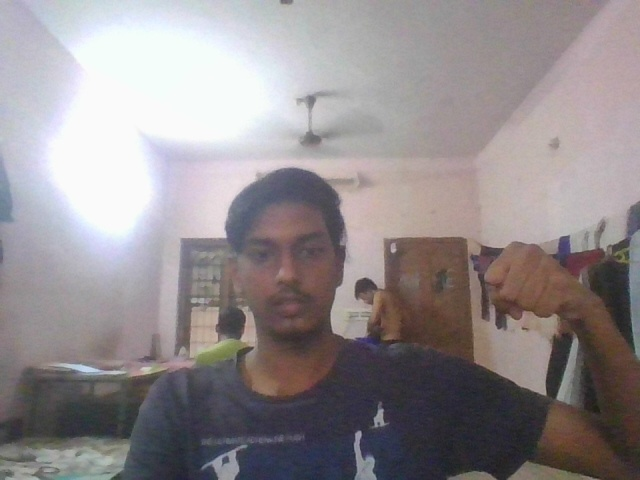yes: (479, 237, 588, 329)
